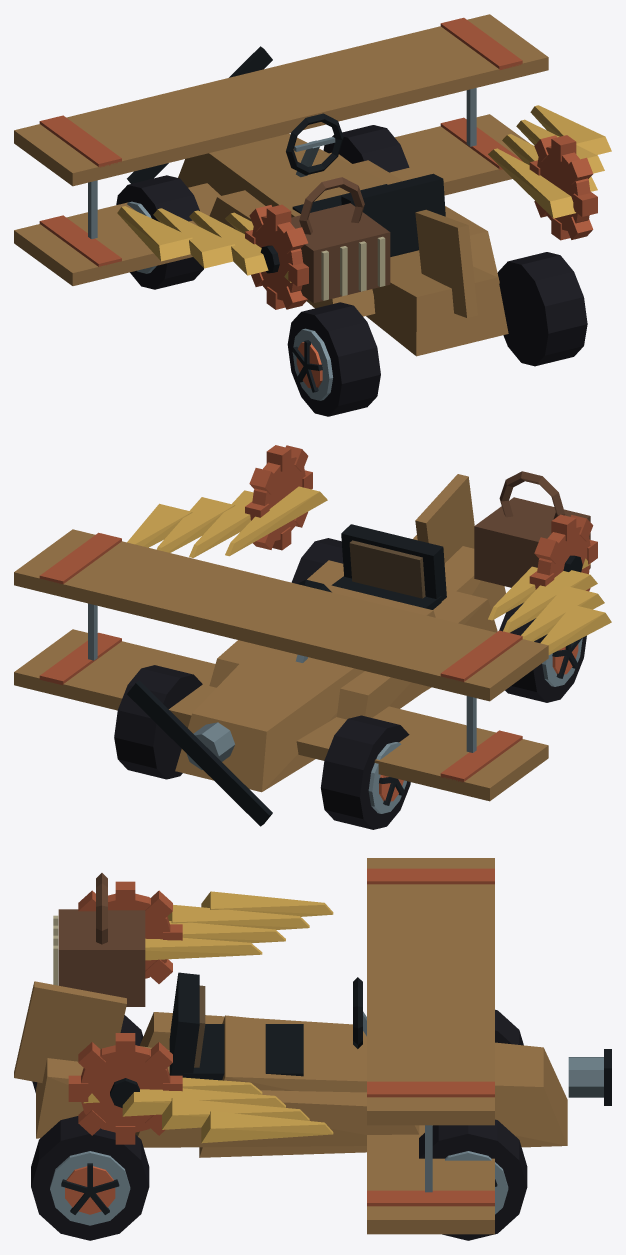
Rendered from kart.glb.
3 renders of one model, top to bottom at view 1: azimuth 30°, elevation 25°; view 2: azimuth 150°, elevation 25°; view 3: azimuth 270°, elevation 25°, orthographic. The views are drawn at different scales.
Visible parts, largest first — view 1: identity-biplane-biplane-dual-wings-and-propeller, identity-biplane-motif-wings-feather, identity-biplane-motif-gears, wheel-rear-left, identity-biplane-motif-basket, wheel-rear-right, identity-biplane-driver-cockpit, wheel-front-left, wheel-front-right; view 2: identity-biplane-biplane-dual-wings-and-propeller, identity-biplane-motif-wings-feather, wheel-front-left, identity-biplane-driver-cockpit, identity-biplane-motif-gears, identity-biplane-motif-basket, wheel-front-right, wheel-rear-left, wheel-rear-right; view 3: identity-biplane-biplane-dual-wings-and-propeller, identity-biplane-motif-wings-feather, wheel-rear-right, identity-biplane-motif-gears, identity-biplane-motif-basket, identity-biplane-driver-cockpit, wheel-front-right, wheel-front-left.
Part boxes in pixels (<box>): identity-biplane-biplane-dual-wings-and-propeller: <box>14,14,548,356</box>; identity-biplane-motif-wings-feather: <box>117,105,611,282</box>; identity-biplane-motif-gears: <box>245,135,597,309</box>; wheel-rear-left: <box>287,302,380,416</box>; identity-biplane-motif-basket: <box>291,177,390,303</box>; wheel-rear-right: <box>497,252,587,366</box>; identity-biplane-driver-cockpit: <box>286,113,445,256</box>; wheel-front-left: <box>116,175,203,289</box>; wheel-front-right: <box>323,125,409,172</box>; identity-biplane-biplane-dual-wings-and-propeller: <box>14,474,548,826</box>; identity-biplane-motif-wings-feather: <box>127,486,611,654</box>; wheel-front-left: <box>320,715,410,829</box>; identity-biplane-driver-cockpit: <box>295,524,446,662</box>; identity-biplane-motif-gears: <box>245,445,597,591</box>; identity-biplane-motif-basket: <box>474,471,590,587</box>; wheel-front-right: <box>114,665,202,779</box>; wheel-rear-left: <box>499,602,586,702</box>; wheel-rear-right: <box>291,538,343,583</box>; identity-biplane-biplane-dual-wings-and-propeller: <box>14,858,611,1234</box>; identity-biplane-motif-wings-feather: <box>83,891,333,1143</box>; wheel-rear-right: <box>31,1116,149,1240</box>; identity-biplane-motif-gears: <box>68,881,182,1144</box>; identity-biplane-motif-basket: <box>53,873,145,1006</box>; identity-biplane-driver-cockpit: <box>169,972,366,1080</box>; wheel-front-right: <box>419,1119,527,1240</box>; wheel-front-left: <box>495,1009,523,1045</box>.
Bounding box in the file's own units: 3.04 × 1.37 × 3.04.
